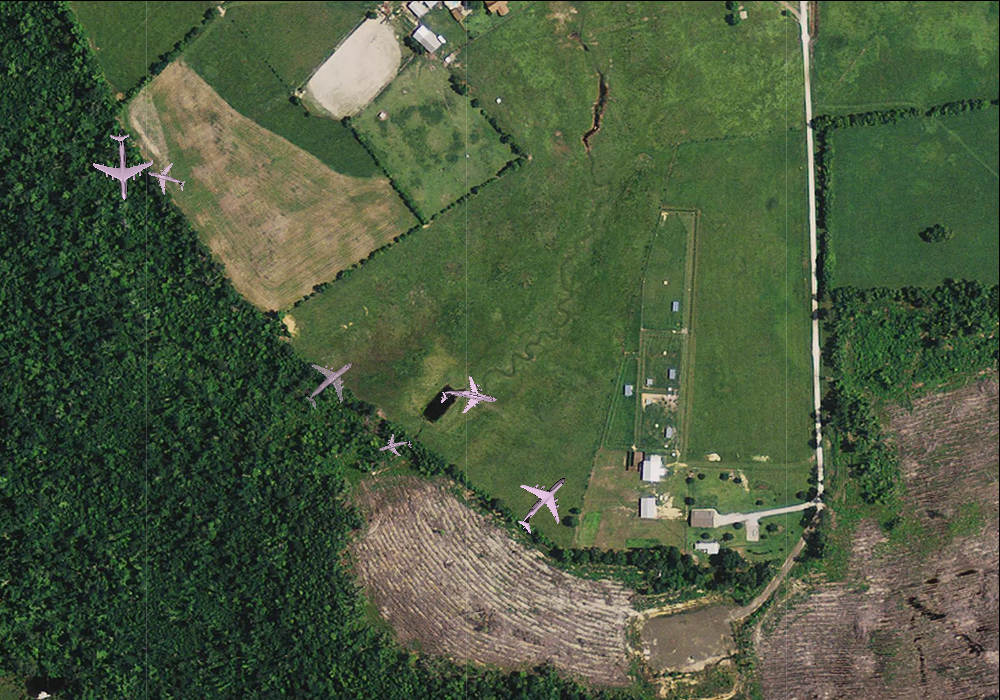plane: (499, 459, 588, 548), (289, 343, 370, 423), (88, 131, 154, 200), (436, 369, 501, 426), (142, 155, 189, 202), (375, 428, 415, 465)
